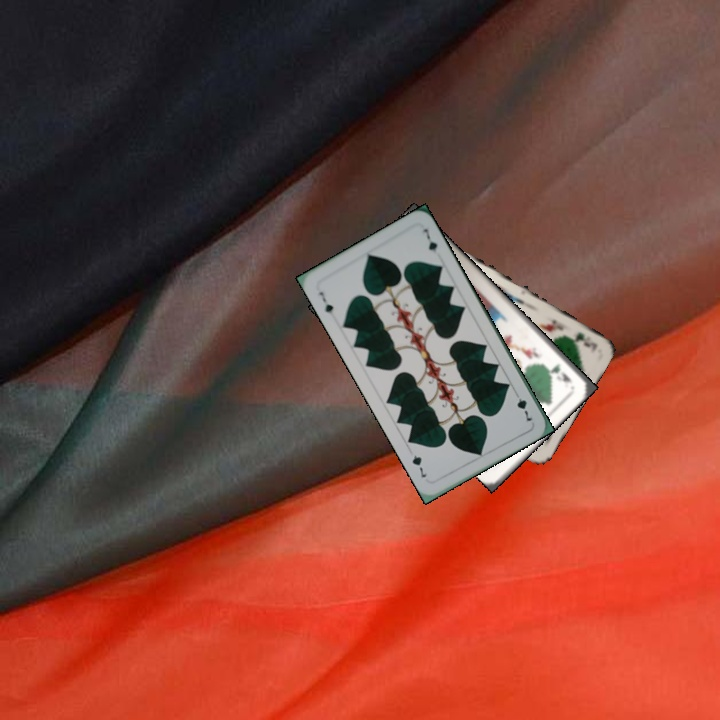G7: (510, 387, 535, 424), (315, 288, 336, 320)
GK: (547, 359, 575, 386), (571, 328, 600, 352)
